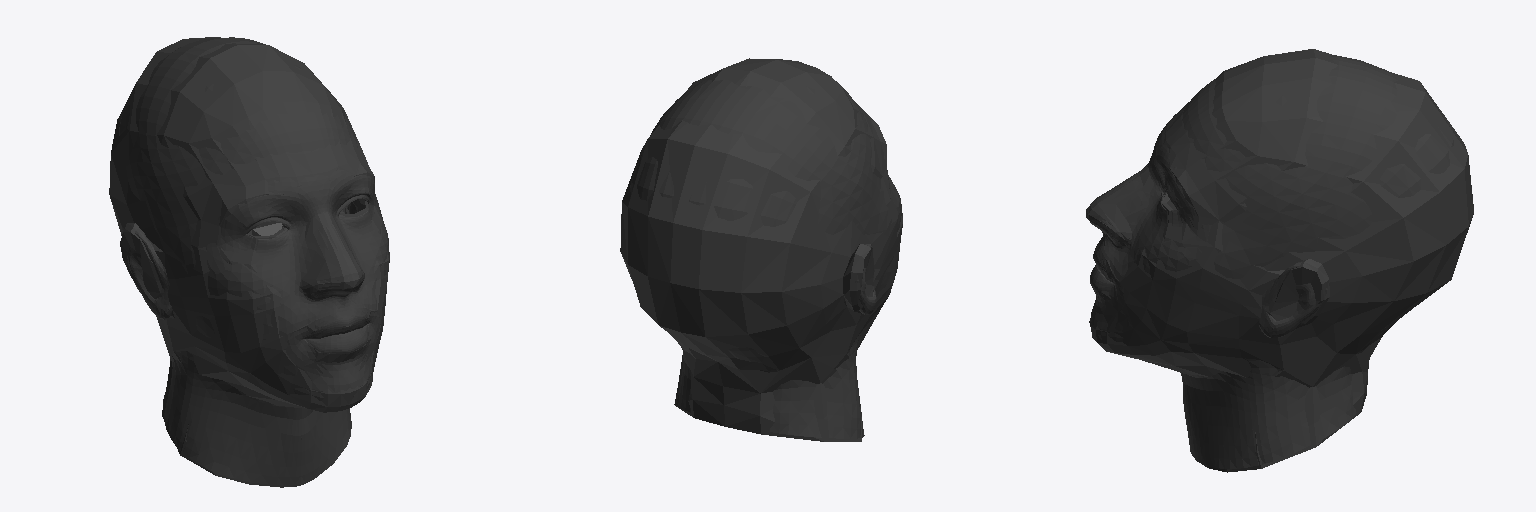
The picture shows the model from 3 angles: view 1: azimuth 30°, elevation 25°; view 2: azimuth 150°, elevation 25°; view 3: azimuth 270°, elevation 25°; orthographic projection.
Visible parts, largest first — view 1: skin_hi.002, skin_lo.002; view 2: skin_lo.002, skin_hi.002; view 3: skin_lo.002, skin_hi.002.
Boxes of the visible parts, x1=… form: skin_hi.002: x1=119, y1=37, x2=388, y2=484; skin_lo.002: x1=109, y1=37, x2=389, y2=487; skin_lo.002: x1=620, y1=58, x2=902, y2=441; skin_hi.002: x1=630, y1=79, x2=901, y2=438; skin_lo.002: x1=1086, y1=49, x2=1473, y2=472; skin_hi.002: x1=1090, y1=55, x2=1453, y2=468.
Size of the model in its own units: 14.94 by 24.46 by 21.75.